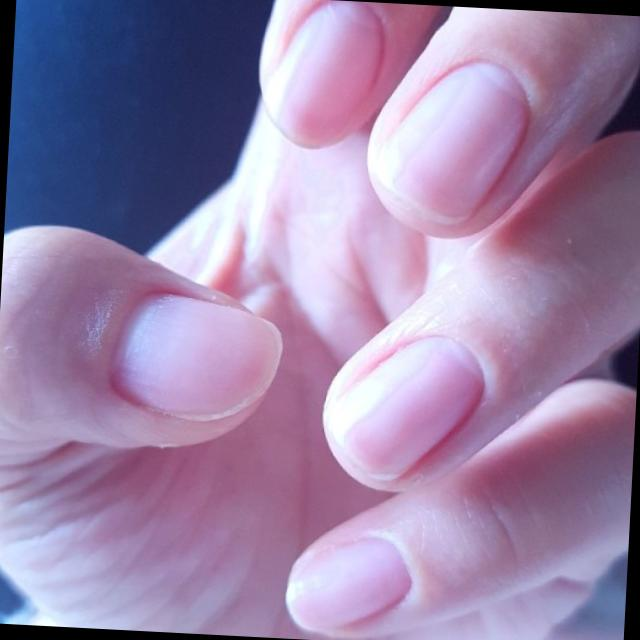Nail: (375, 63, 529, 228), (326, 336, 483, 484), (115, 295, 282, 421), (265, 3, 386, 144), (287, 538, 411, 630)
